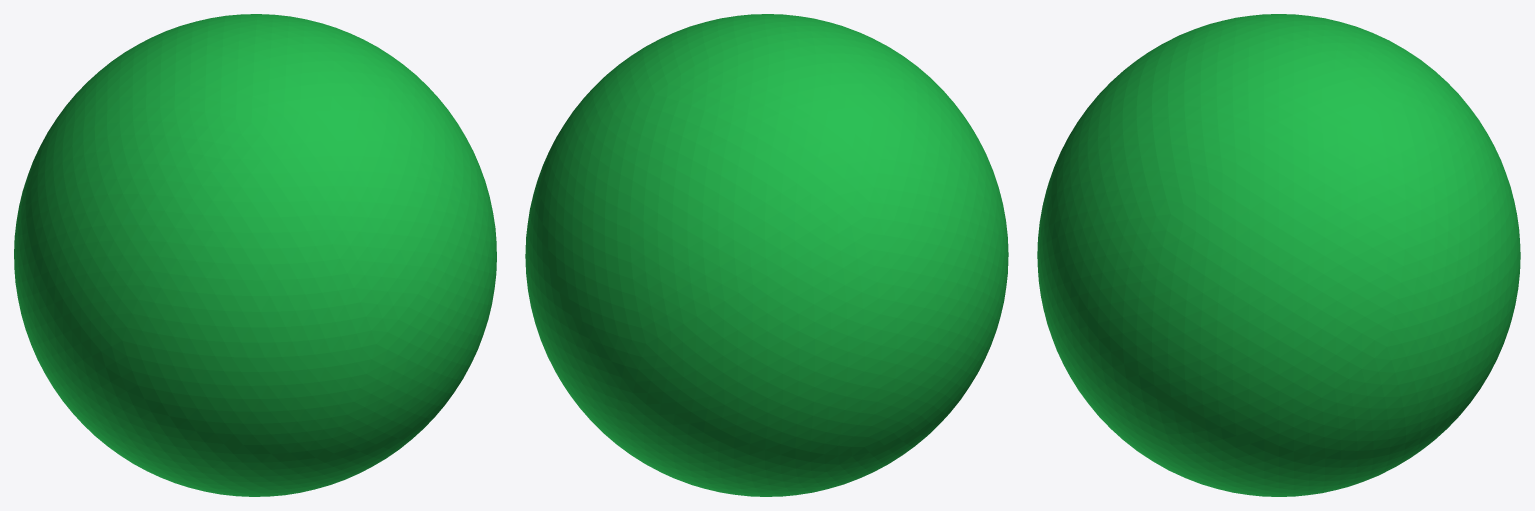
Rendered from salle.obj.
The picture shows the model from 3 angles, left to right: view 1: azimuth 30°, elevation 25°; view 2: azimuth 150°, elevation 25°; view 3: azimuth 270°, elevation 25°; orthographic projection.
Visible parts, largest first — view 1: Object.1; view 2: Object.1; view 3: Object.1.
Boxes of the visible parts, x1=… form: Object.1: x1=14, y1=14, x2=496, y2=496; Object.1: x1=525, y1=14, x2=1008, y2=496; Object.1: x1=1037, y1=14, x2=1520, y2=496.
Size of the model in its own units: 0.04 by 0.04 by 0.04.
